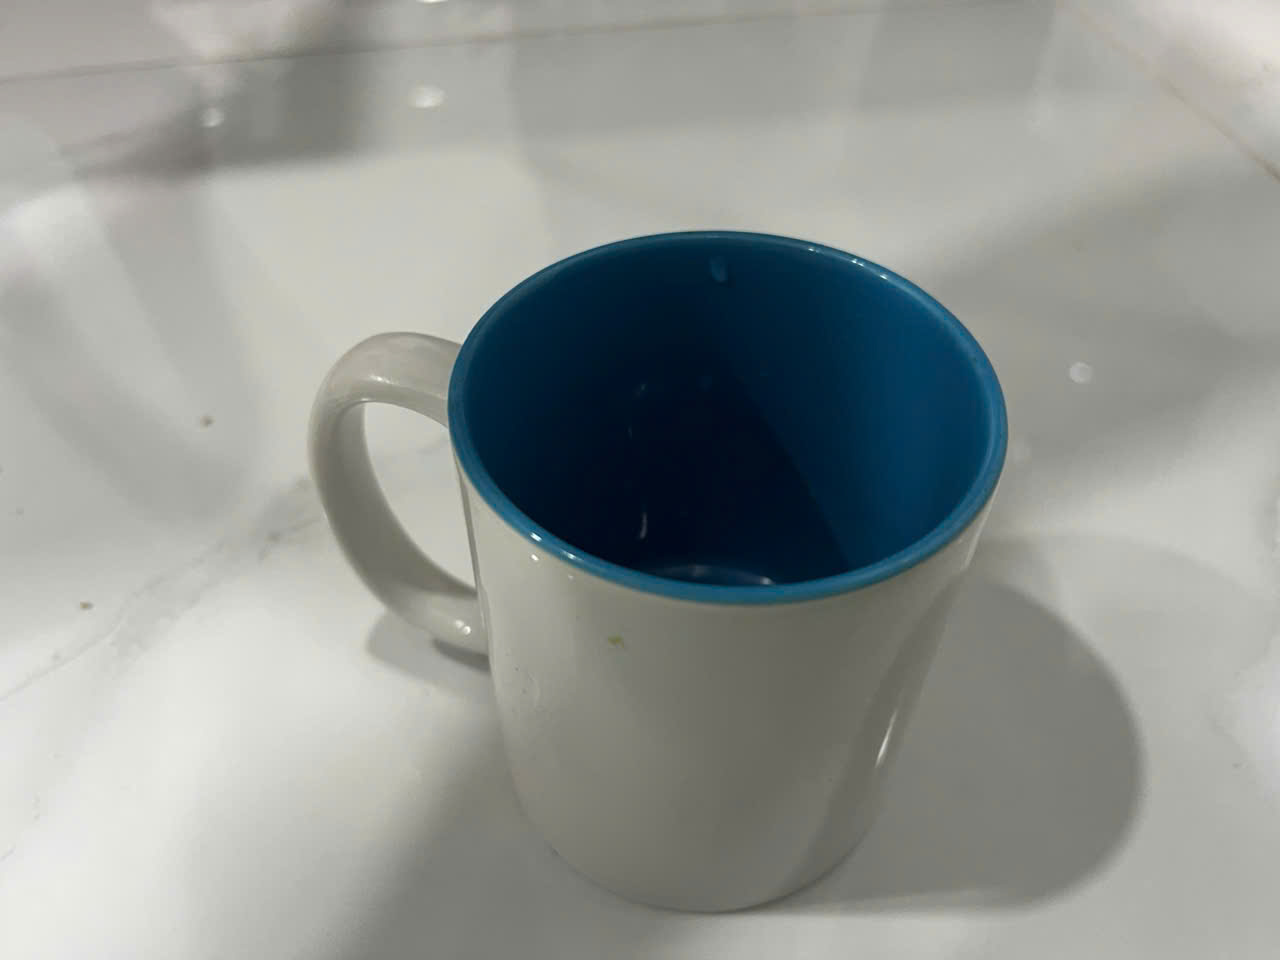ly coc: (311, 219, 977, 928)
